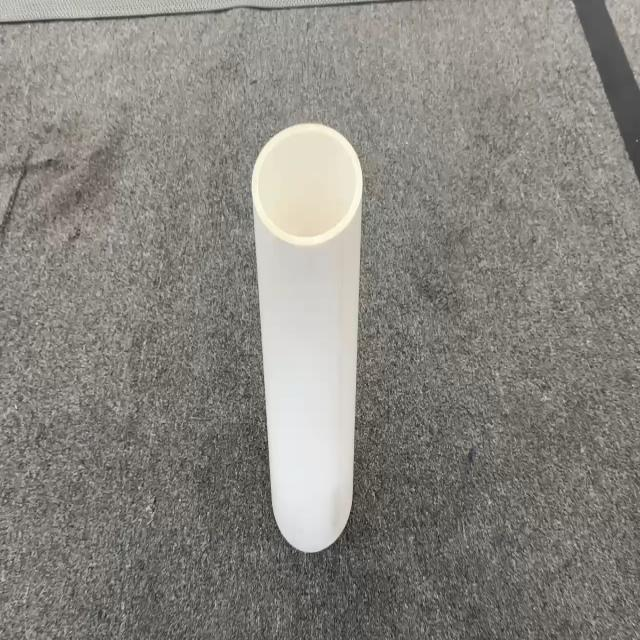coral: (250, 121, 364, 553)
